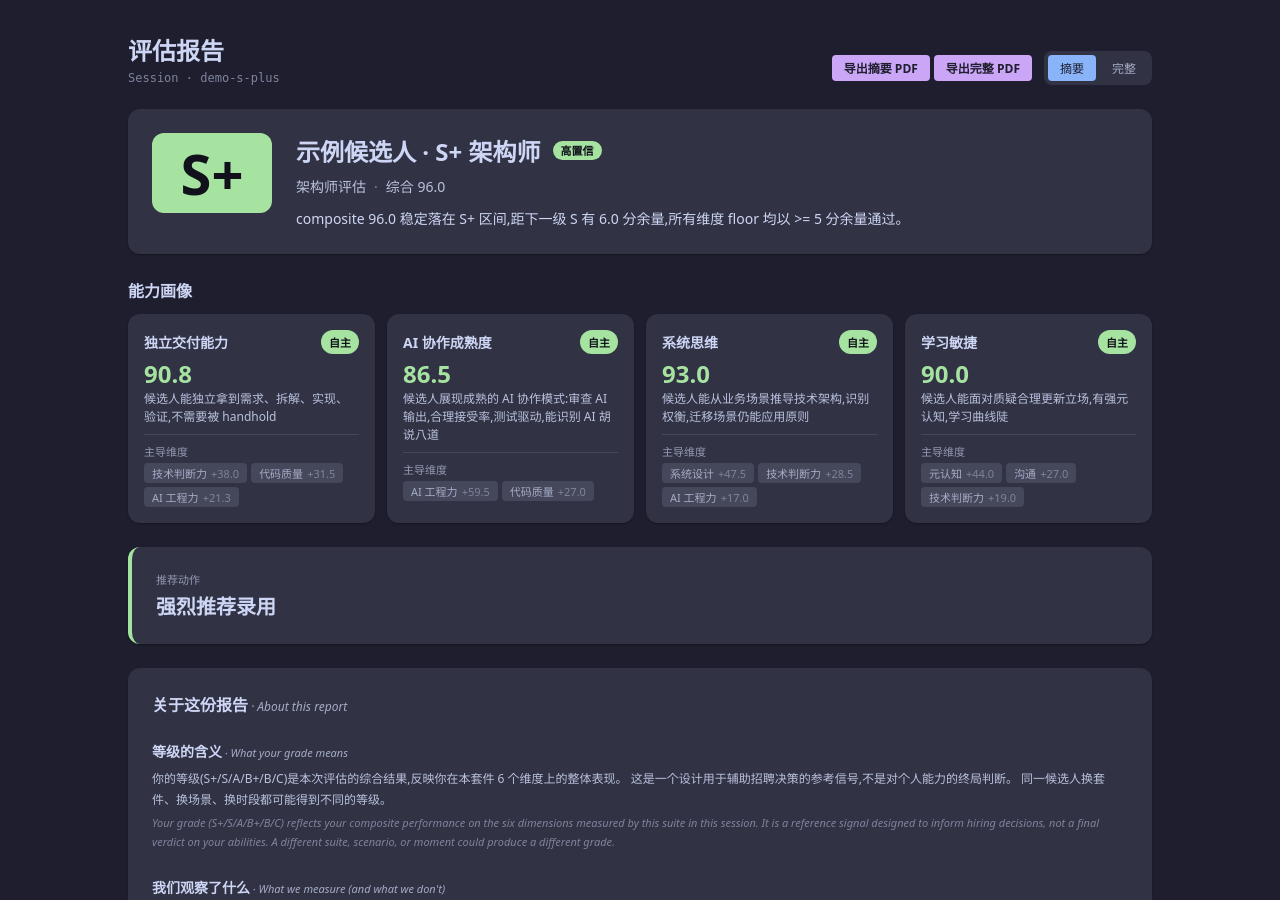
Test: <ReportViewPage /> › toggles between summary and detail layers
The image size is (1280, 900).
Check: the element with test id "report-renderer-summary" is shown, box x1=128 y1=109 x2=1152 y2=644
Click the tab with test id "report-view-layer-detail" at (1124, 68), box x1=1100 y1=55 x2=1148 y2=81
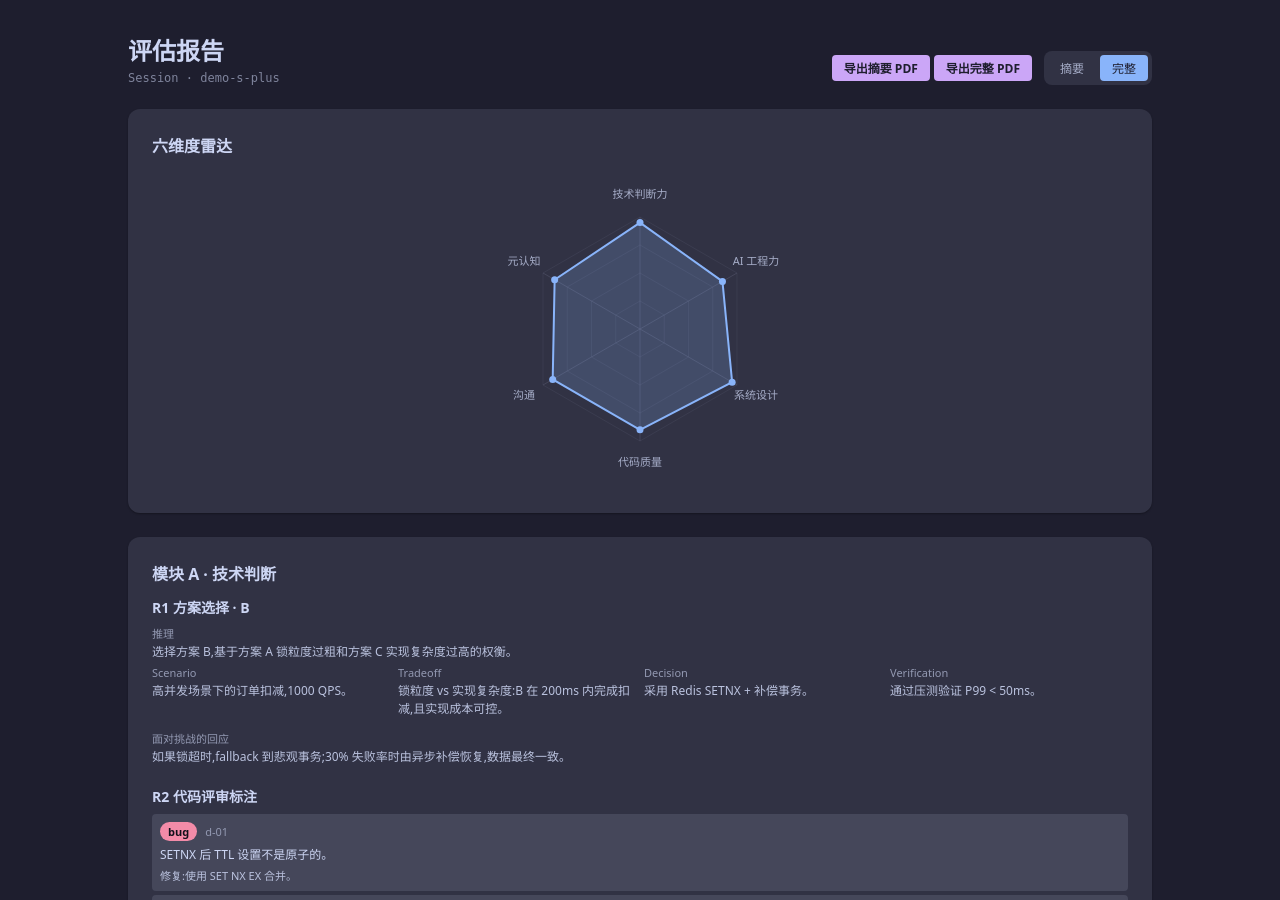
Click the tab with test id "report-view-layer-summary" at (1072, 68), box x1=1048 y1=55 x2=1096 y2=81
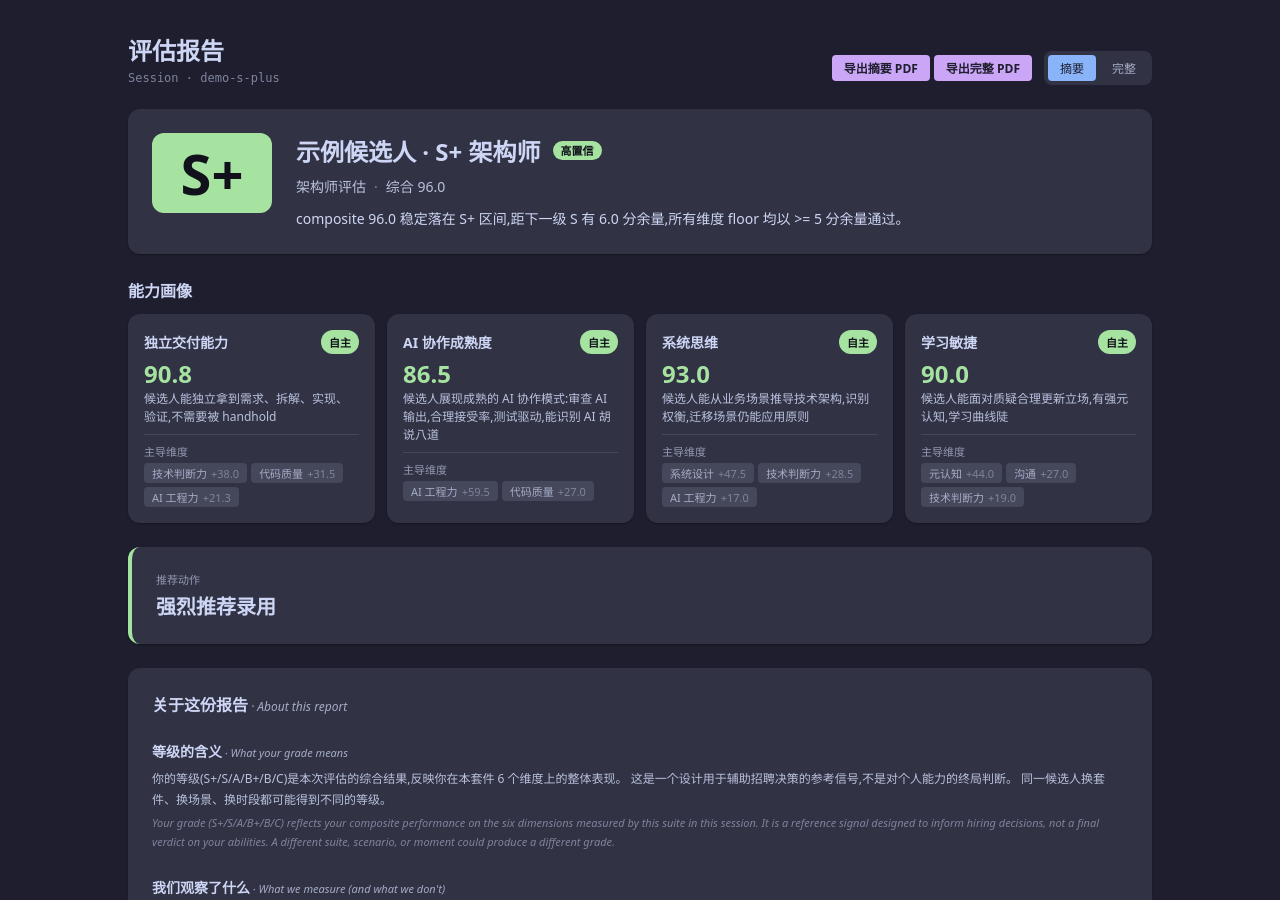
Check: the element with test id "report-renderer-summary" is shown, box x1=128 y1=109 x2=1152 y2=644
